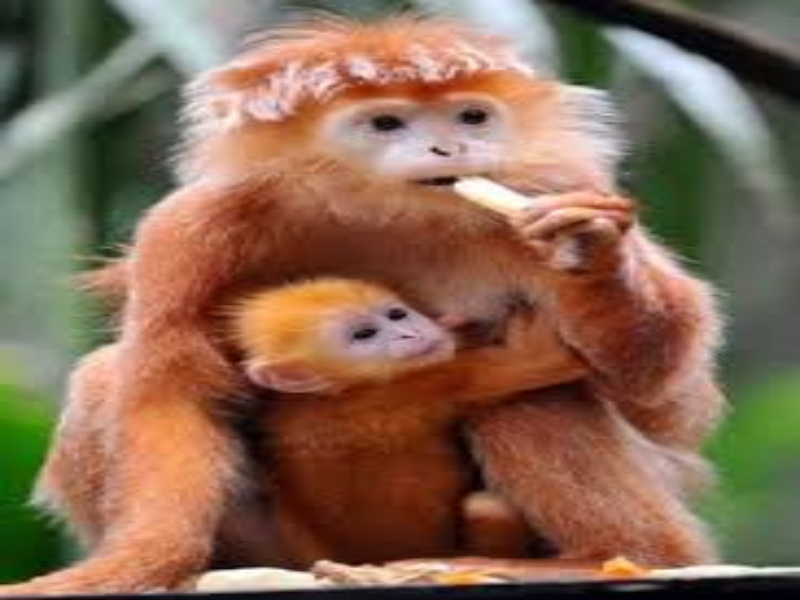monkey: (68, 24, 738, 570)
